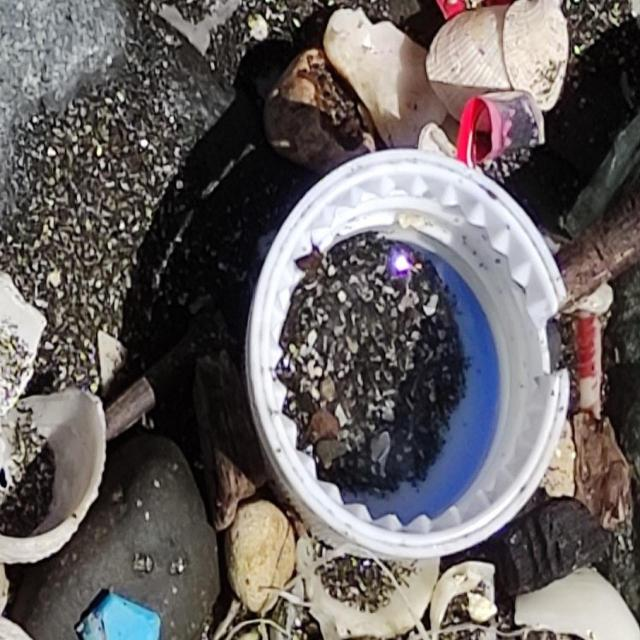plastic_waste: (243, 145, 576, 564)
